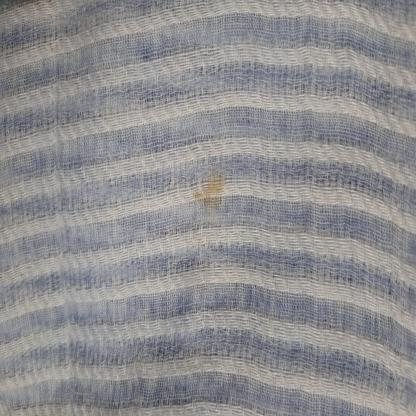spot: (184, 159, 235, 232)
